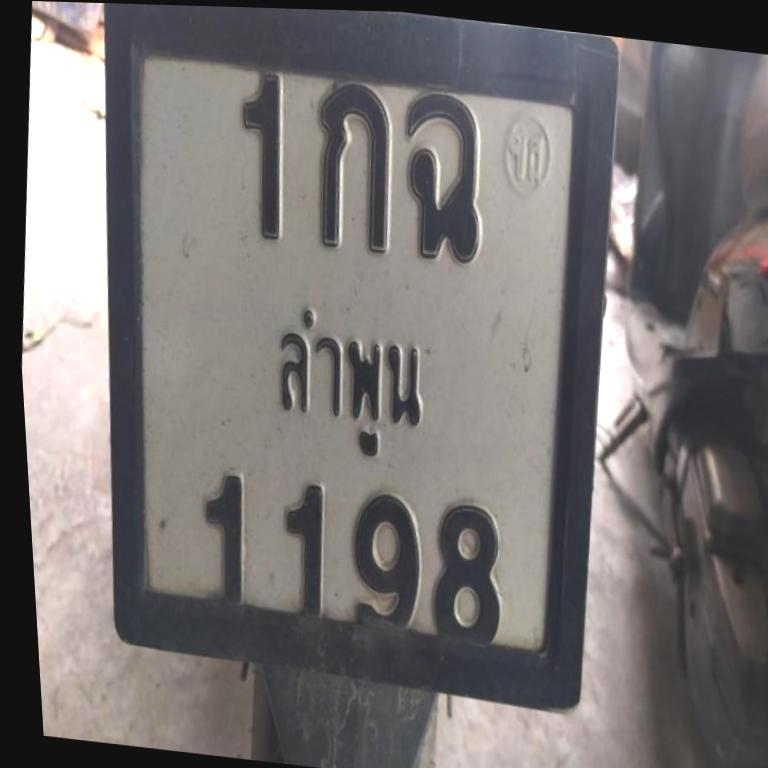license plate: (44, 1, 649, 725)
